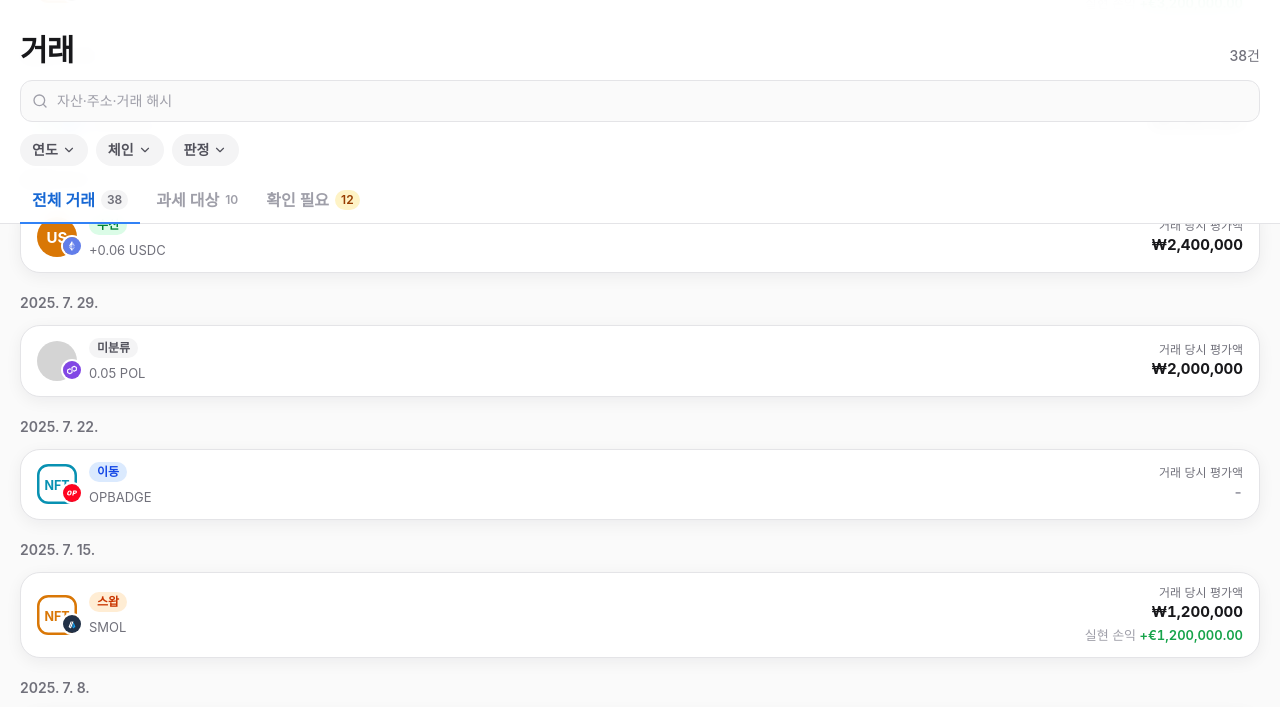
it: 7차 리뷰 P1 경계 — 보류 중에 옛 사실을 단정하지 않는다 › 제외였던 거래가 유효 분류로 바뀌면 옛 '계산 제외' 도장이 남지 않는다
The image size is (1280, 707).
(page scrolled)
Step 1. Click the button "미분류 0.05 POL 거래 당시 평가액 ₩2,000,000" → click(57, 361), box top-left (20, 325), bottom-right (1260, 396)
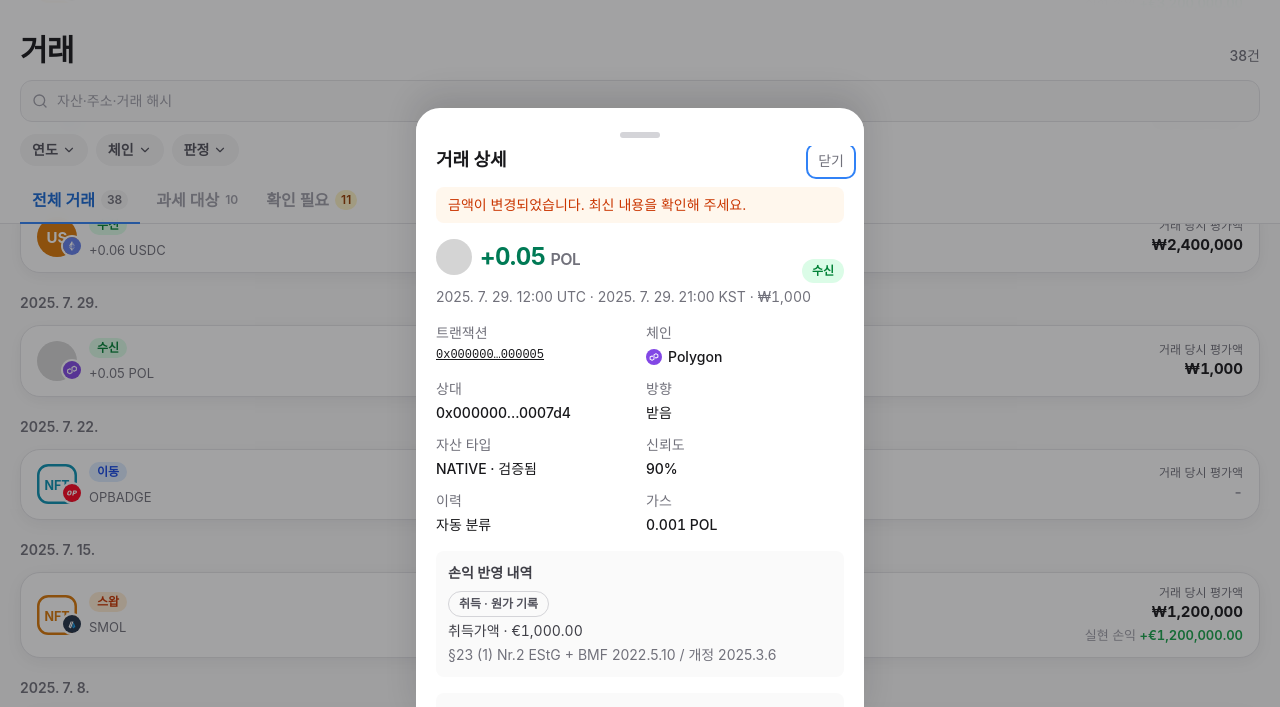
expect the heading "거래 상세" is shown: met, box top-left (436, 146), bottom-right (506, 174)
